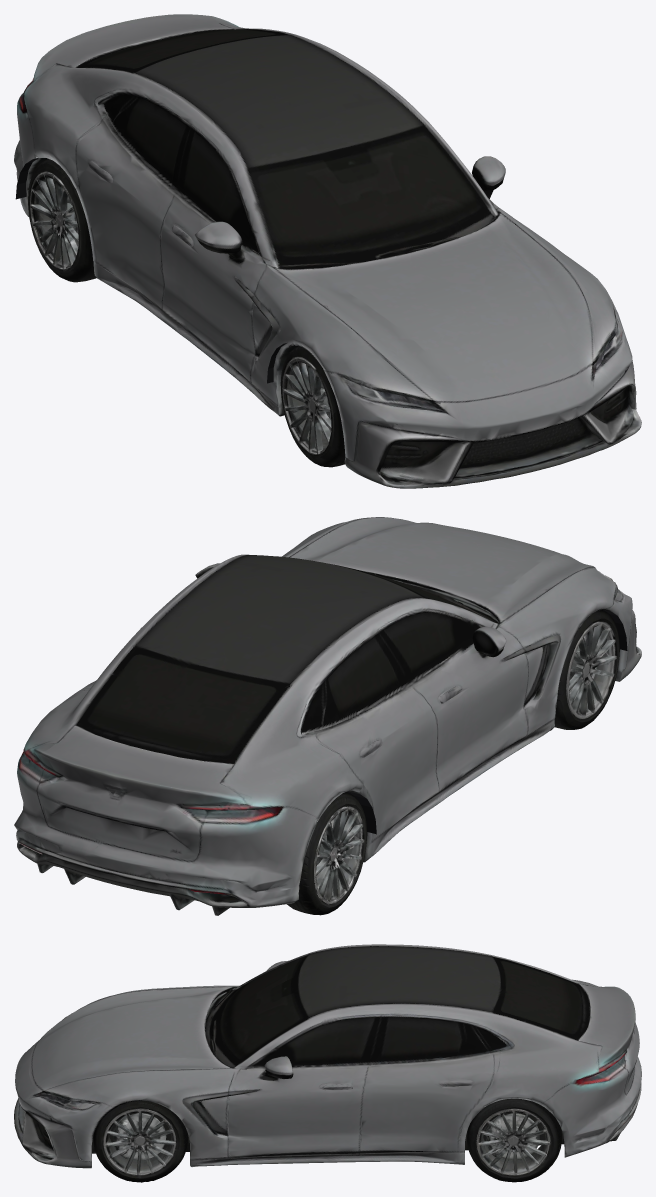
File: car_courier.glb
The picture shows the model from 3 angles, top to bottom: view 1: azimuth 30°, elevation 25°; view 2: azimuth 150°, elevation 25°; view 3: azimuth 270°, elevation 25°; orthographic projection. The views are drawn at different scales.
Visible parts, largest first — view 1: body, wheel_RR, wheel_FR; view 2: body, wheel_RR, wheel_FR; view 3: body, wheel_RL, wheel_FL.
Part boxes in pixels (<box>): body: <box>14,14,641,488</box>; wheel_RR: <box>28,161,87,280</box>; wheel_FR: <box>276,346,334,465</box>; body: <box>14,517,641,915</box>; wheel_RR: <box>287,796,367,915</box>; wheel_FR: <box>554,613,618,729</box>; body: <box>14,944,641,1181</box>; wheel_RL: <box>471,1100,562,1182</box>; wheel_FL: <box>101,1101,188,1182</box>.
Size of the model in its own units: 2.01 by 1.38 by 4.85.
2 materials, 1 textured.
